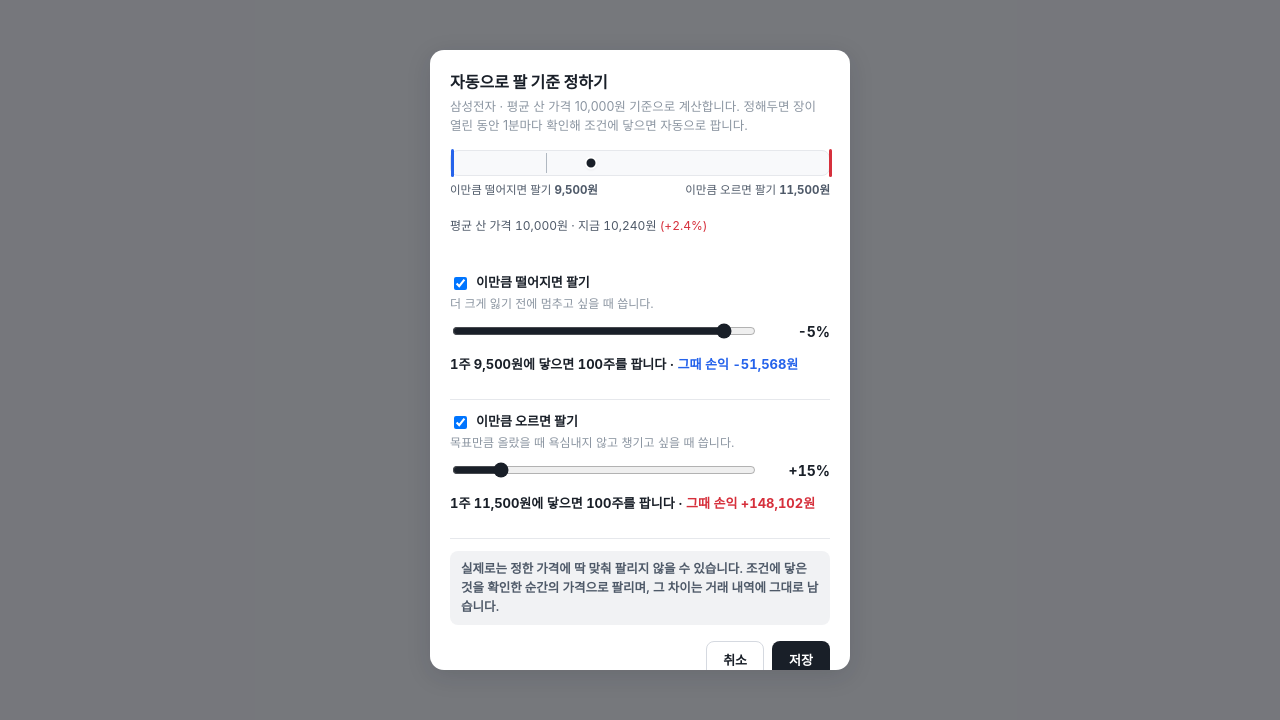
Test case: SellWallEditor — 퍼센트를 즉시 금액으로 환산(SPEC §8.1 #6) › 체크를 끄면 그 기준은 사라진다
The width and height of the screenshot is (1280, 720).
Click the checkbox labelled "이만큼 떨어지면 팔기": coordinates (460, 284) x1=454 y1=277 x2=467 y2=290
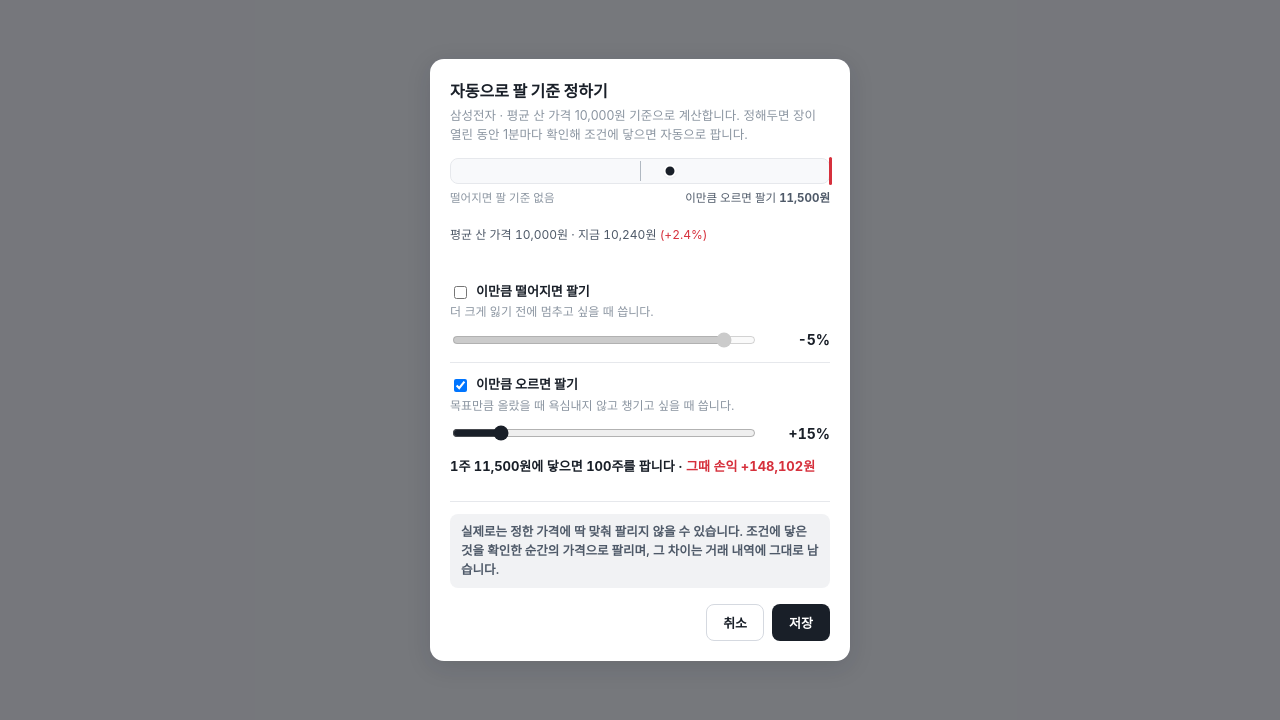
Expected: the element with test id "stop-price" is gone
